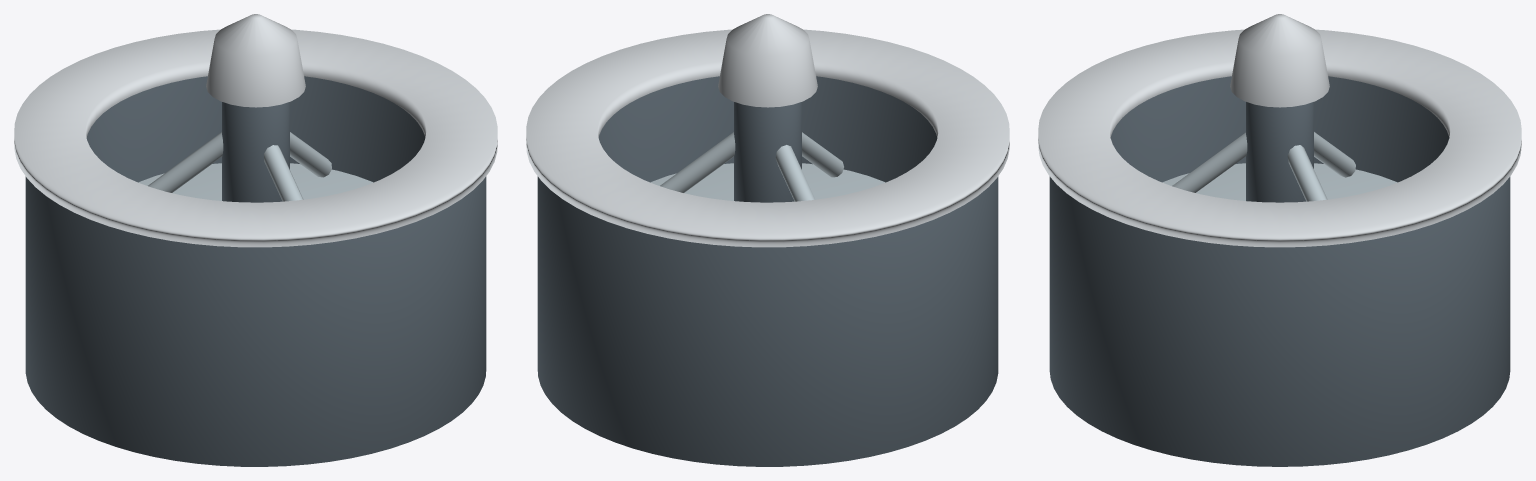
The model's file is apollo_cm.docking_tunnel.glb.
3 renders of one model, left to right at view 1: azimuth 30°, elevation 25°; view 2: azimuth 150°, elevation 25°; view 3: azimuth 270°, elevation 25°, orthographic.
Parts seen in each view (by area): view 1: apollo_cm.docking_tunnel.mesh, apollo_cm.docking_tunnel.probe.mesh, apollo_cm.docking_tunnel.forward_hatch.mesh; view 2: apollo_cm.docking_tunnel.mesh, apollo_cm.docking_tunnel.probe.mesh, apollo_cm.docking_tunnel.forward_hatch.mesh; view 3: apollo_cm.docking_tunnel.mesh, apollo_cm.docking_tunnel.probe.mesh, apollo_cm.docking_tunnel.forward_hatch.mesh.
Boxes of the visible parts, x1,y1,x2,y2 form: apollo_cm.docking_tunnel.mesh: (14, 29, 497, 466); apollo_cm.docking_tunnel.probe.mesh: (148, 14, 331, 202); apollo_cm.docking_tunnel.forward_hatch.mesh: (138, 163, 373, 200); apollo_cm.docking_tunnel.mesh: (526, 29, 1009, 466); apollo_cm.docking_tunnel.probe.mesh: (660, 14, 843, 202); apollo_cm.docking_tunnel.forward_hatch.mesh: (650, 163, 885, 200); apollo_cm.docking_tunnel.mesh: (1038, 29, 1521, 466); apollo_cm.docking_tunnel.probe.mesh: (1172, 14, 1355, 202); apollo_cm.docking_tunnel.forward_hatch.mesh: (1162, 163, 1397, 200).
Size of the model in its own units: 1.19 by 0.96 by 1.19.
